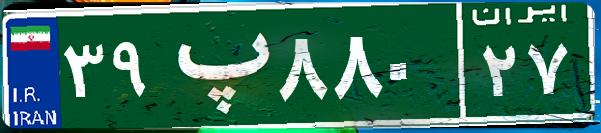0: (385, 28, 445, 110)
2: (475, 38, 525, 113)
3: (57, 26, 110, 107)
7: (525, 38, 570, 115)
8: (273, 28, 330, 110), (330, 28, 385, 110)
9: (110, 28, 158, 105)
پ: (158, 15, 273, 115)
